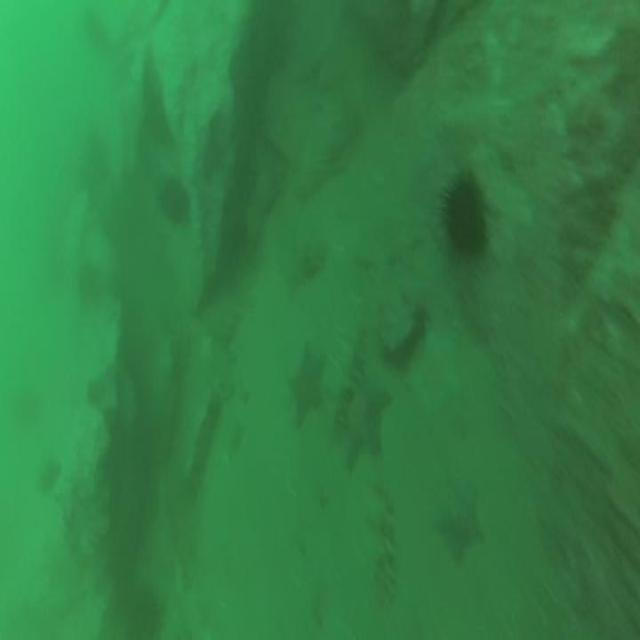echinus: (436, 166, 492, 262), (156, 172, 190, 232)
holothurian: (332, 322, 368, 433), (372, 468, 397, 604)
starfish: (335, 365, 395, 471), (282, 340, 330, 428), (438, 477, 484, 564)
